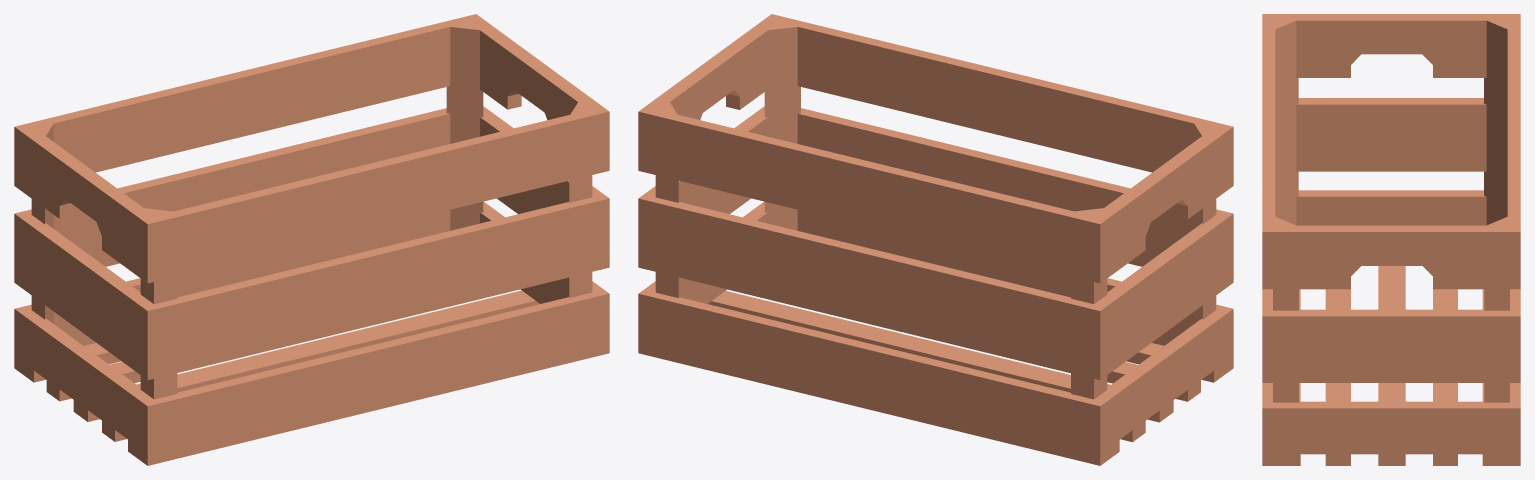
The model's file is Crate_UV_0003.fbx.
3 renders of one model, left to right at view 1: azimuth 30°, elevation 25°; view 2: azimuth 150°, elevation 25°; view 3: azimuth 270°, elevation 25°, orthographic. The views are drawn at different scales.
Visible parts, largest first — view 1: Crate; view 2: Crate; view 3: Crate.
Part boxes in pixels (x1,y1,x2,y2): Crate: (14, 14, 609, 465); Crate: (638, 14, 1233, 465); Crate: (1262, 14, 1520, 465).
Size of the model in its own units: 400 by 200 by 200.
